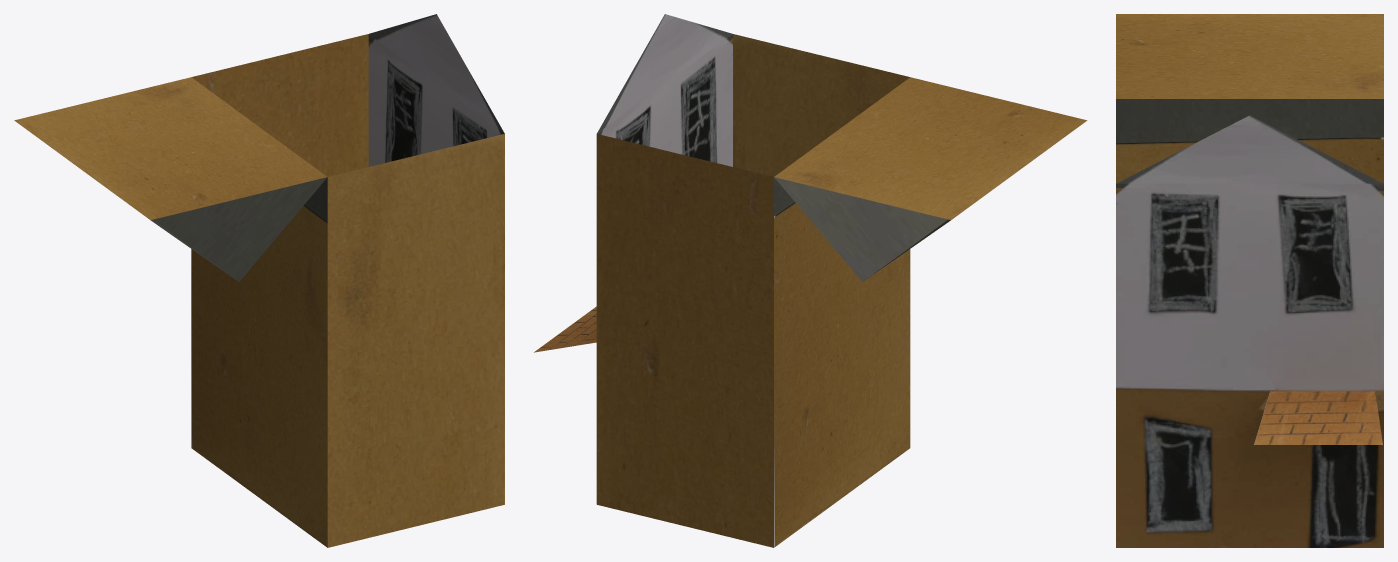
Rendered from rmj.gltf.
3 renders of one model, left to right at view 1: azimuth 30°, elevation 25°; view 2: azimuth 150°, elevation 25°; view 3: azimuth 270°, elevation 25°, orthographic.
Visible parts, largest first — view 1: Cube, Cube.002, Cube.003; view 2: Cube, Cube.002, Cube.003; view 3: Cube, Cube.002, Cube.003.
Boxes of the visible parts, box(x1,y1,x2,y2) form: Cube: box(191, 134, 504, 547); Cube.002: box(14, 77, 327, 281); Cube.003: box(191, 14, 504, 176); Cube: box(596, 134, 910, 547); Cube.002: box(774, 77, 1087, 281); Cube.003: box(534, 14, 909, 352); Cube: box(1116, 115, 1383, 547); Cube.002: box(1116, 14, 1383, 98); Cube.003: box(1116, 99, 1383, 444).
Size of the model in its own units: 17.7 by 17.83 by 10.
1 material, 1 textured.
